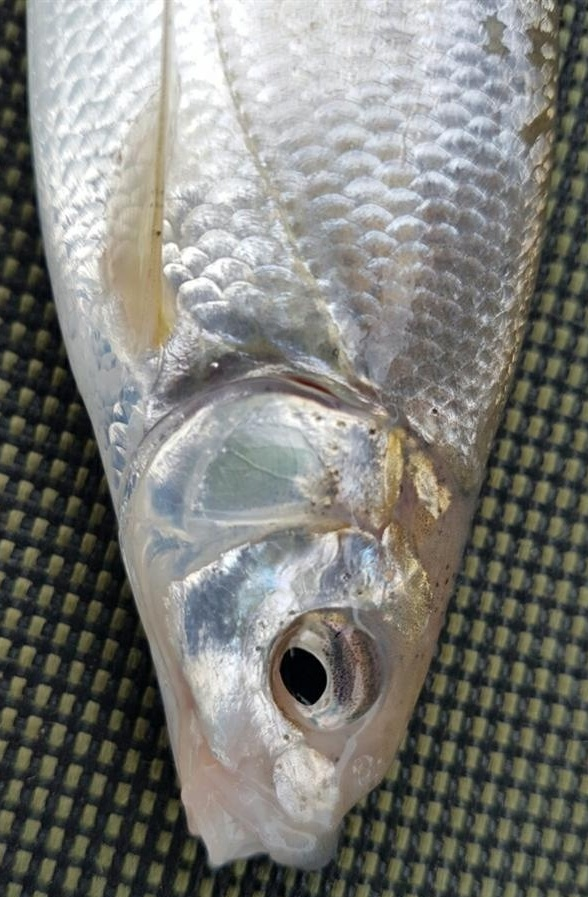Vimba vimba: (20, 1, 568, 877)
